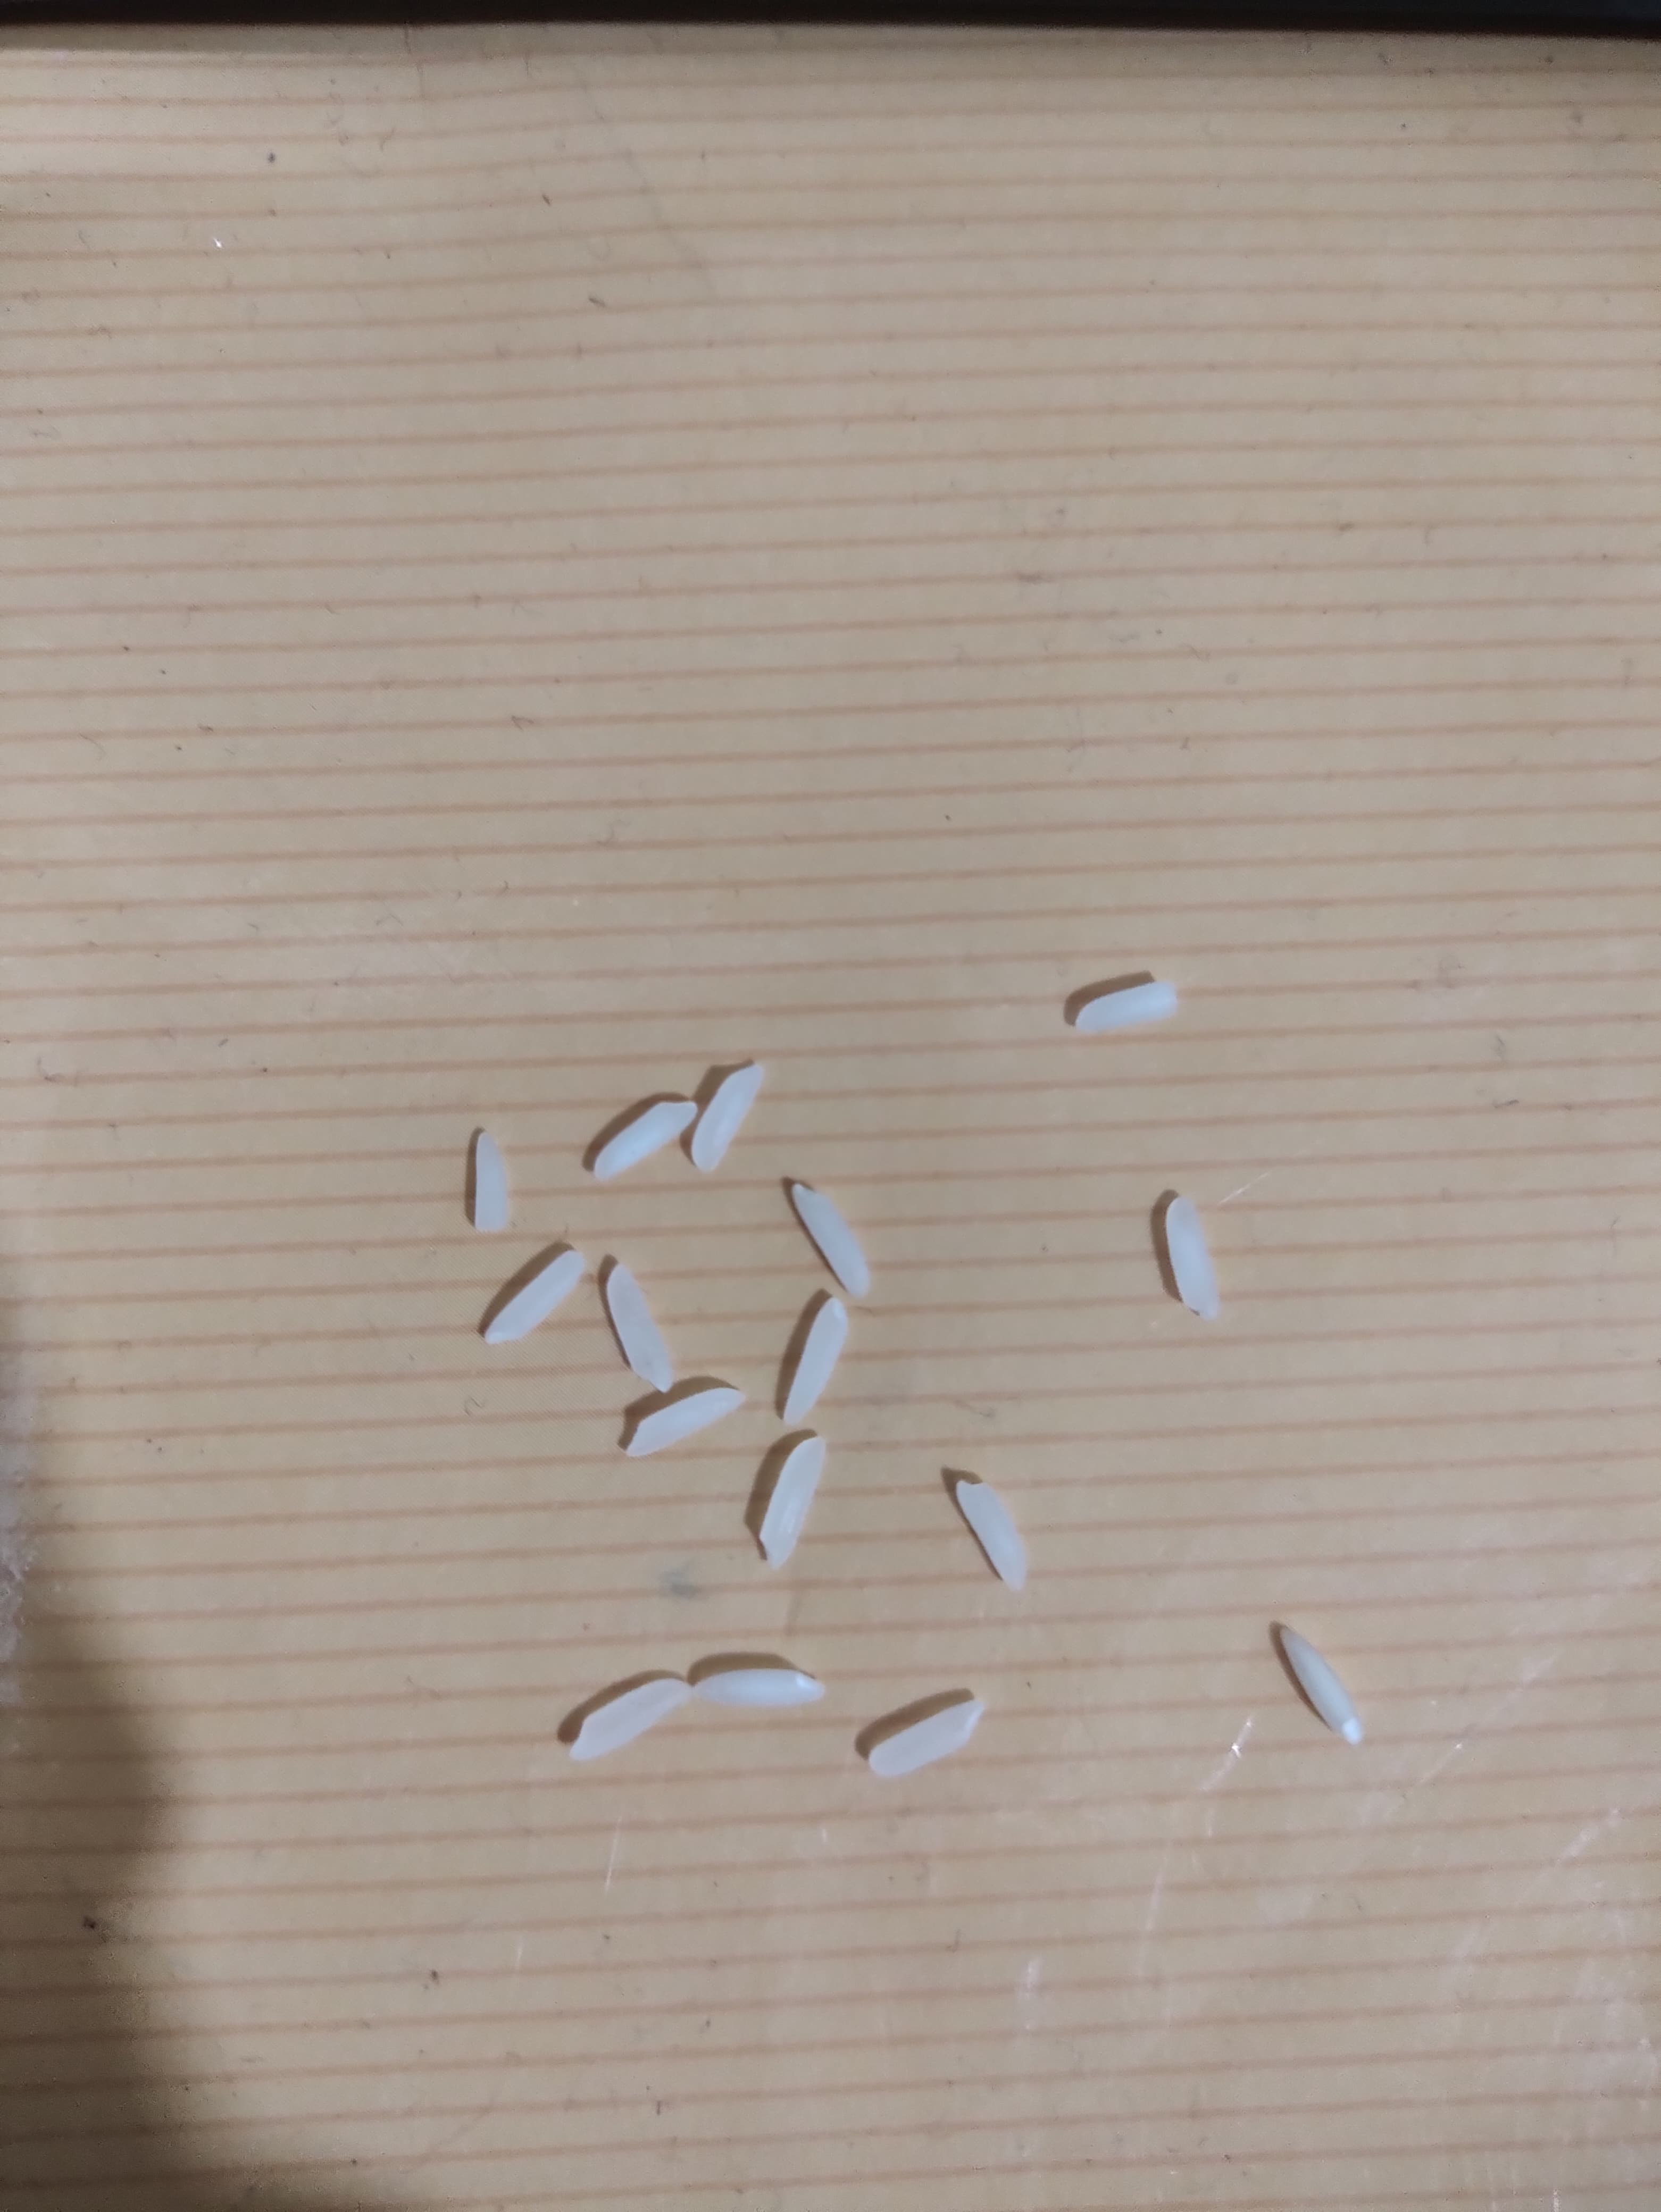broken_grain: (453, 1112, 523, 1246)
complete_grain: (536, 1659, 697, 1763), (1270, 1608, 1378, 1763), (746, 1421, 844, 1580), (780, 1157, 889, 1302), (765, 1283, 863, 1438), (461, 1238, 589, 1355), (567, 1080, 695, 1191), (857, 1689, 997, 1789), (946, 1461, 1040, 1610), (689, 1053, 780, 1202), (597, 1259, 689, 1400), (1140, 1178, 1223, 1327), (608, 1374, 753, 1459), (691, 1653, 840, 1723), (1059, 961, 1180, 1049)
